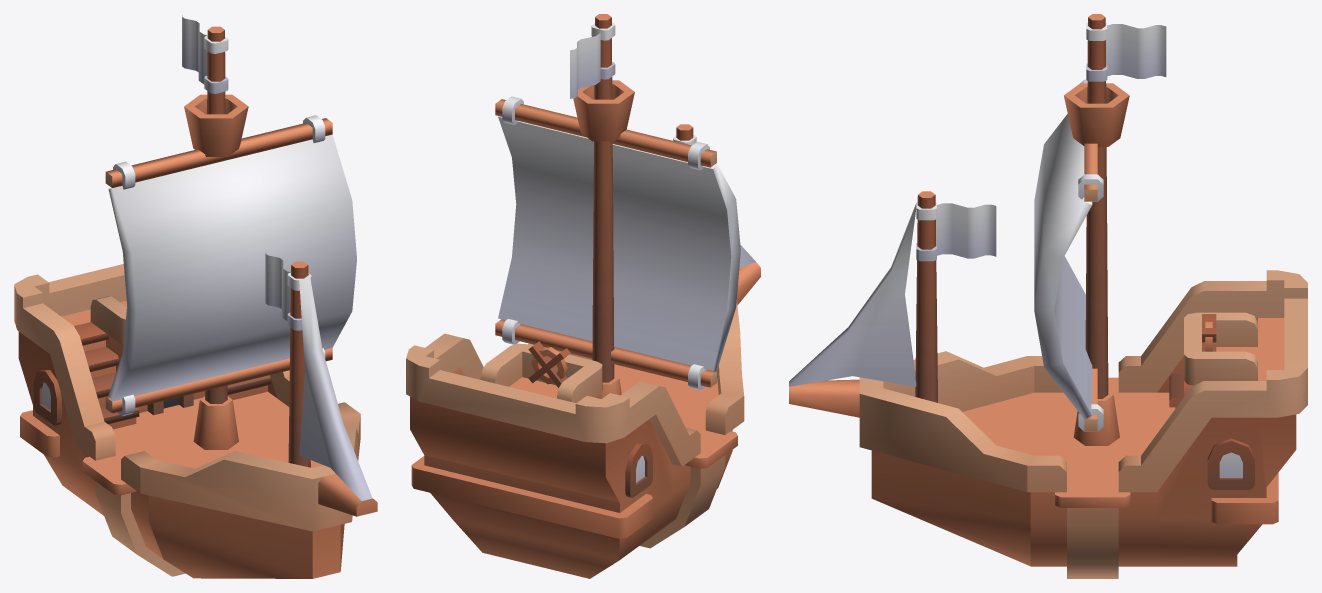
File: kenney-pirate-kit-ship-small.glb
The picture shows the model from 3 angles, left to right: view 1: azimuth 30°, elevation 25°; view 2: azimuth 150°, elevation 25°; view 3: azimuth 270°, elevation 25°; orthographic projection. The views are drawn at different scales.
Visible parts, largest first — view 1: ship-small, sail-a, flag-b, flag-a; view 2: ship-small, sail-a, flag-b; view 3: ship-small, sail-a, flag-a, flag-b.
Boxes of the visible parts, <box> form: ship-small: <box>14,26,377,578</box>; sail-a: <box>105,115,356,416</box>; flag-b: <box>182,15,228,93</box>; flag-a: <box>265,252,311,330</box>; ship-small: <box>406,14,760,578</box>; sail-a: <box>495,96,740,390</box>; flag-b: <box>570,23,615,98</box>; ship-small: <box>789,14,1307,578</box>; sail-a: <box>1034,79,1103,431</box>; flag-a: <box>916,202,996,261</box>; flag-b: <box>1086,22,1166,81</box>.
Bounding box in the file's own units: 2.65 × 5.5 × 4.86.
1 material, 1 textured.
